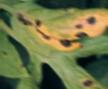Tomato leaf bacterial spot: (7, 0, 108, 89)
